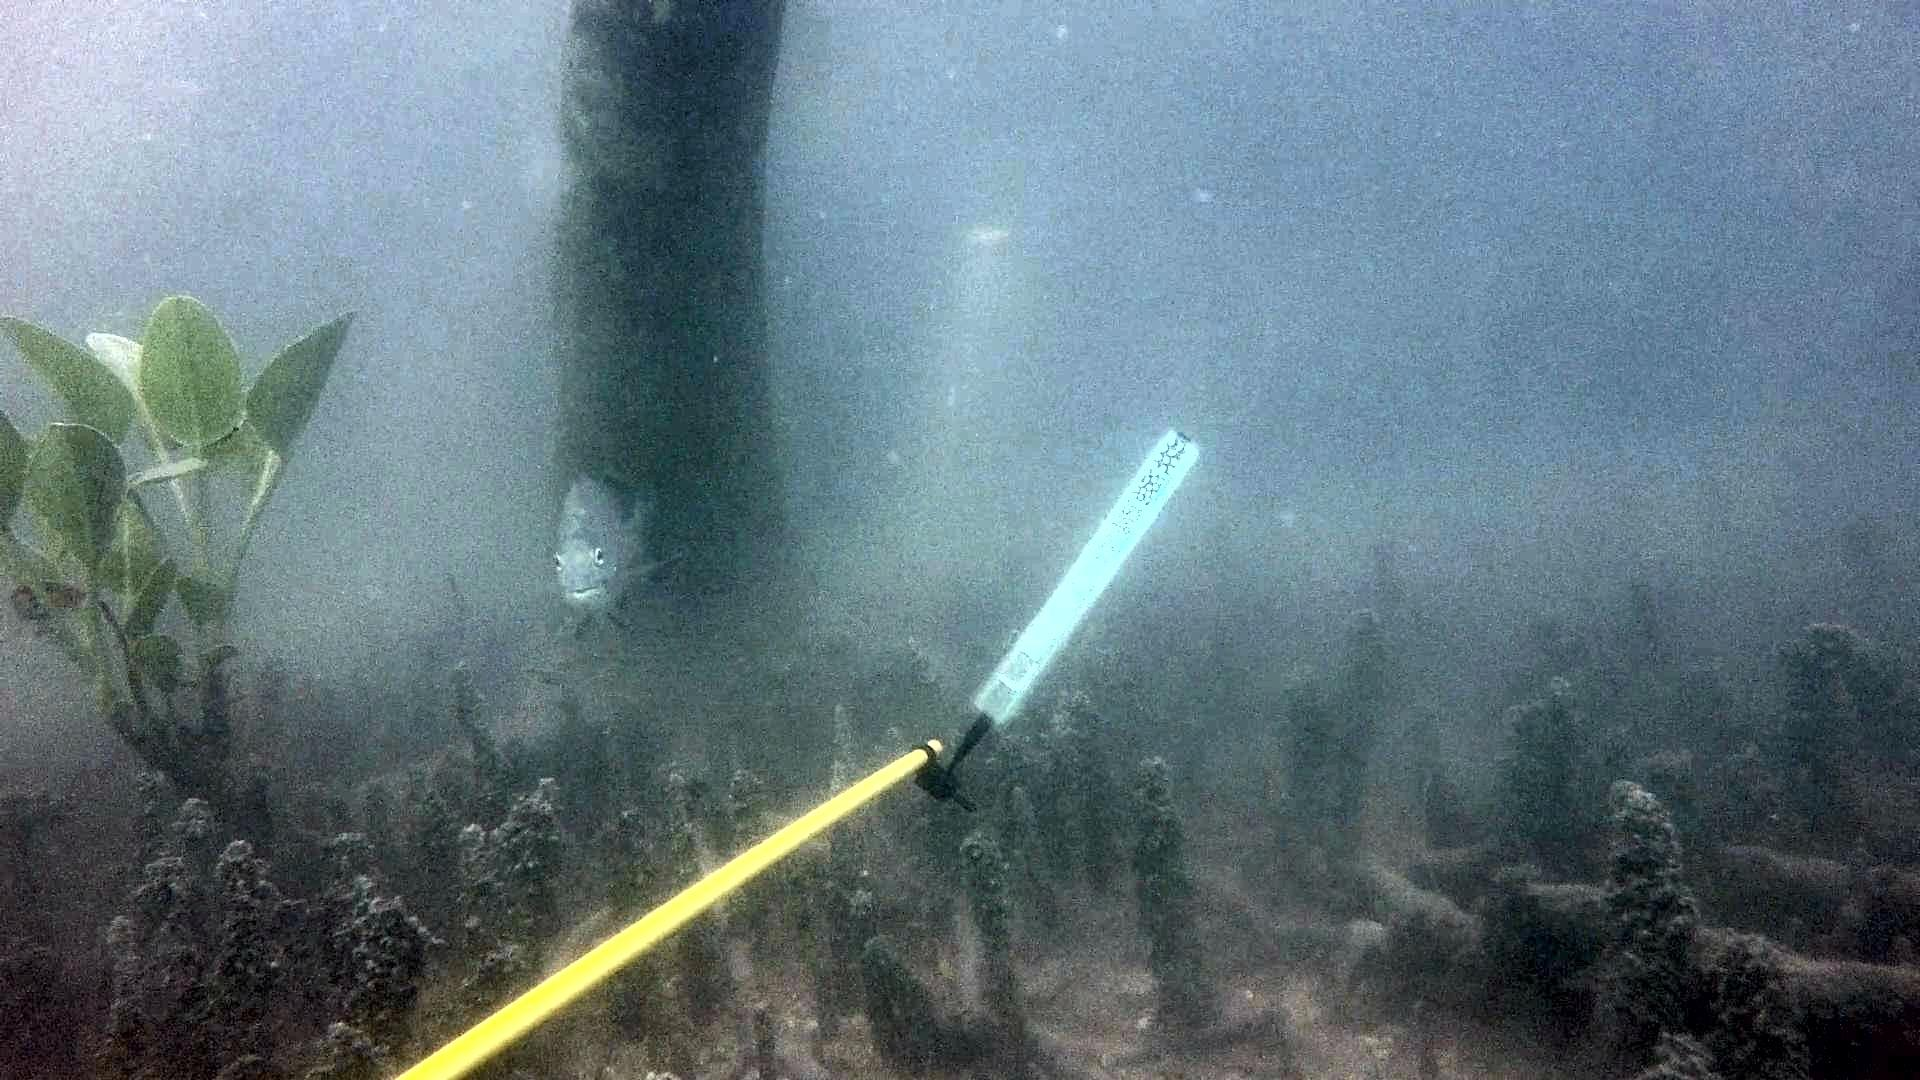acanthopagrus palmaris: (535, 451, 708, 638)
